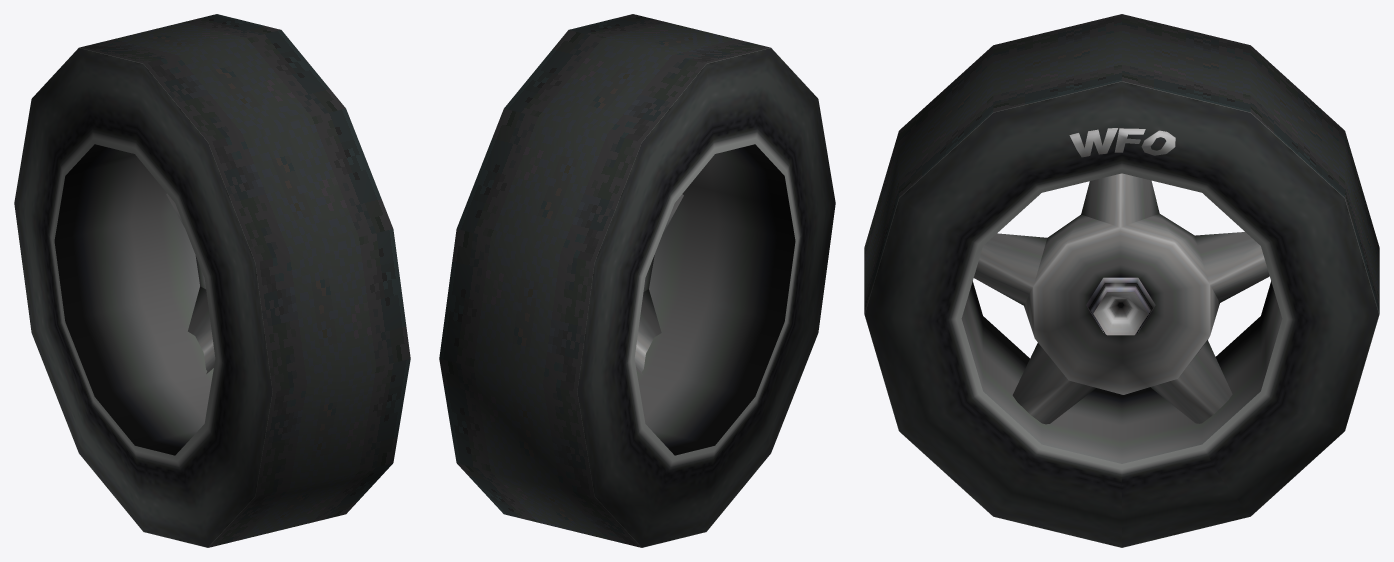
Rendered from DefaultWheel_hotrinb.glb.
3 views of the same model, side by side, from view 1: azimuth 30°, elevation 25°; view 2: azimuth 150°, elevation 25°; view 3: azimuth 270°, elevation 25° (orthographic).
Parts seen in each view (by area): view 1: wheel; view 2: wheel; view 3: wheel.
Part boxes in pixels (box(x1,y1,x2,y2)): wheel: box(14, 14, 410, 547); wheel: box(439, 14, 835, 547); wheel: box(864, 14, 1379, 547).
Size of the model in its own units: 0.2966 by 0.8108 by 0.8108.
4 materials, 4 textured.
